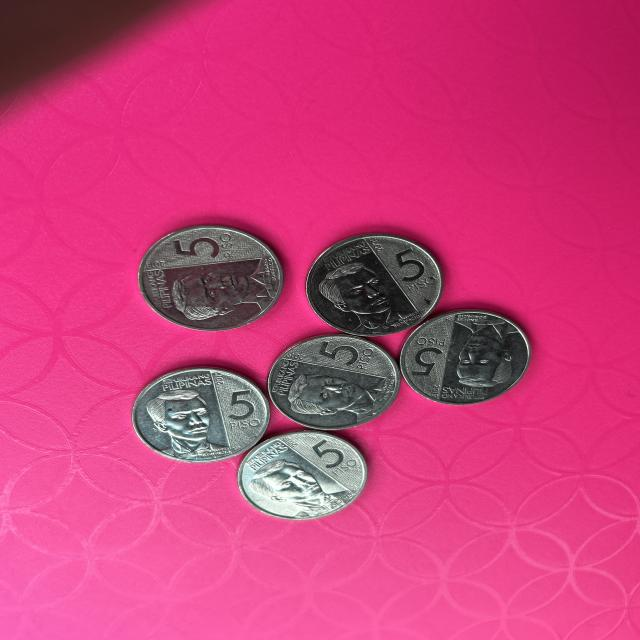5_New_Front: (166, 225, 258, 267), (402, 328, 449, 398), (215, 389, 279, 435), (376, 243, 437, 289), (308, 435, 365, 480), (306, 340, 369, 373)
